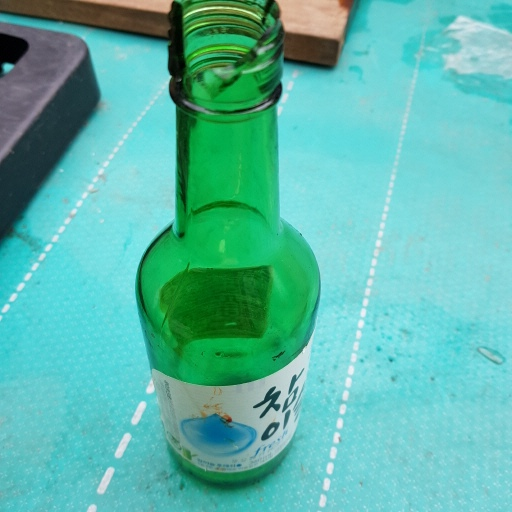Glass_0: (137, 1, 320, 488)
